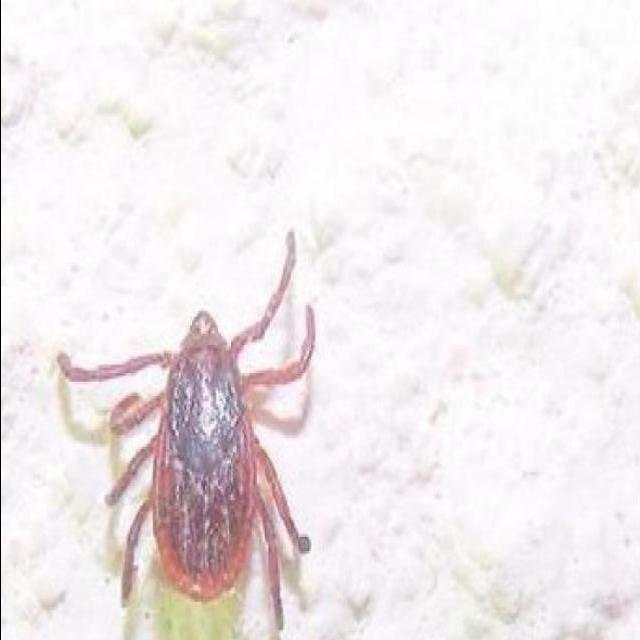Rhipicephalus Sanguineus-F: (56, 232, 317, 630)
